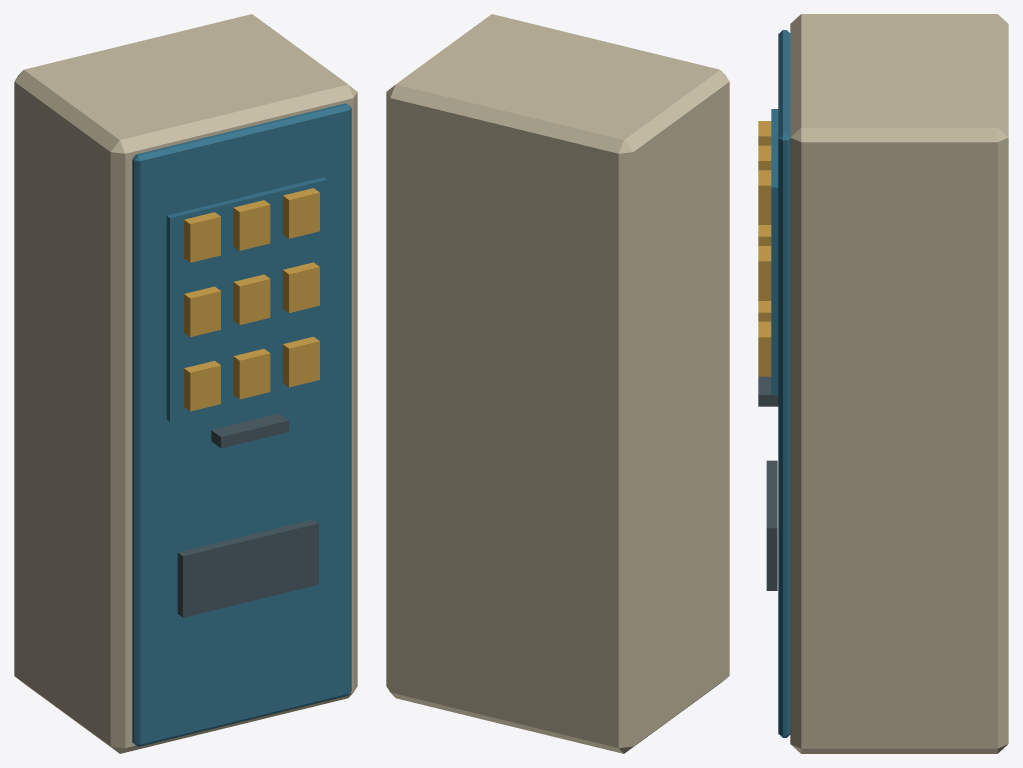
The model's file is snacks_vending.glb.
The picture shows the model from 3 angles, left to right: view 1: azimuth 30°, elevation 25°; view 2: azimuth 150°, elevation 25°; view 3: azimuth 270°, elevation 25°; orthographic projection. The views are drawn at different scales.
Parts seen in each view (by area): view 1: snacks_vending; view 2: snacks_vending; view 3: snacks_vending.
Boxes of the visible parts, x1,y1,x2,y2 form: snacks_vending: (14, 14, 357, 753); snacks_vending: (386, 14, 729, 753); snacks_vending: (758, 14, 1008, 753).
Bounding box in the file's own units: 0.8 × 1.9 × 0.6875.
